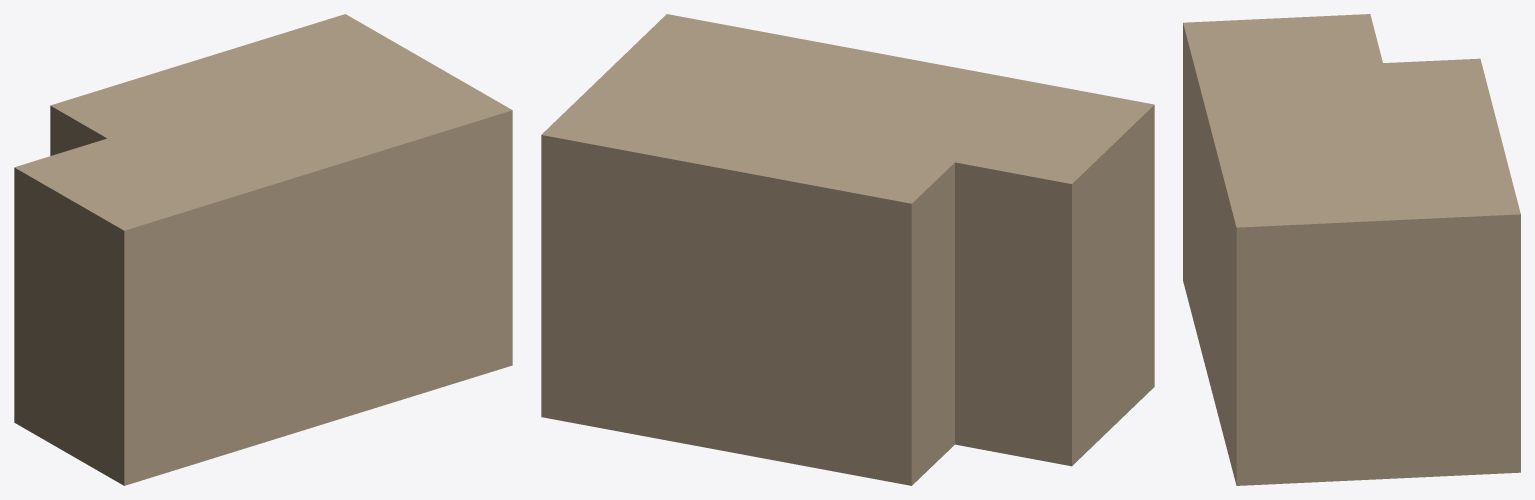
Rendered from bld_111406560.dae.
The picture shows the model from 3 angles, left to right: view 1: azimuth 30°, elevation 25°; view 2: azimuth 150°, elevation 25°; view 3: azimuth 270°, elevation 25°; orthographic projection. The views are drawn at different scales.
Parts seen in each view (by area): view 1: bld_111406560; view 2: bld_111406560; view 3: bld_111406560.
Boxes of the visible parts, left/top/right/bottom form: bld_111406560: left=14, top=14, right=512, bottom=485; bld_111406560: left=541, top=14, right=1154, bottom=485; bld_111406560: left=1183, top=14, right=1520, bottom=485.
Size of the model in its own units: 14.19 by 9.48 by 8.
